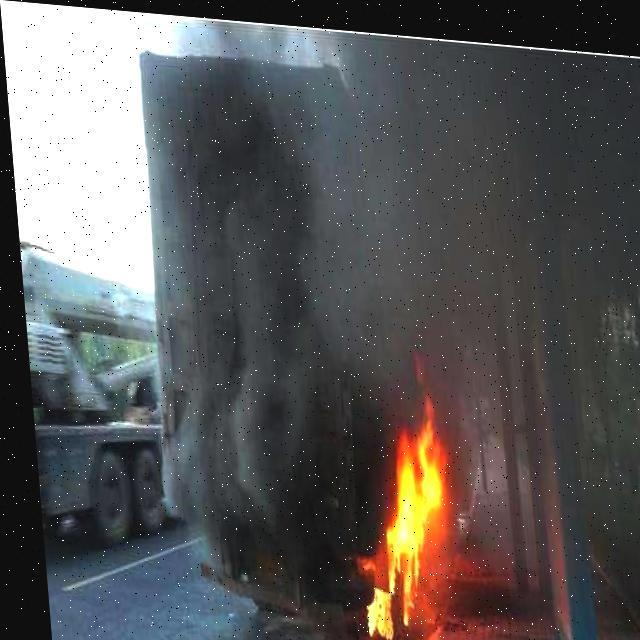Fire: (339, 387, 468, 639)
